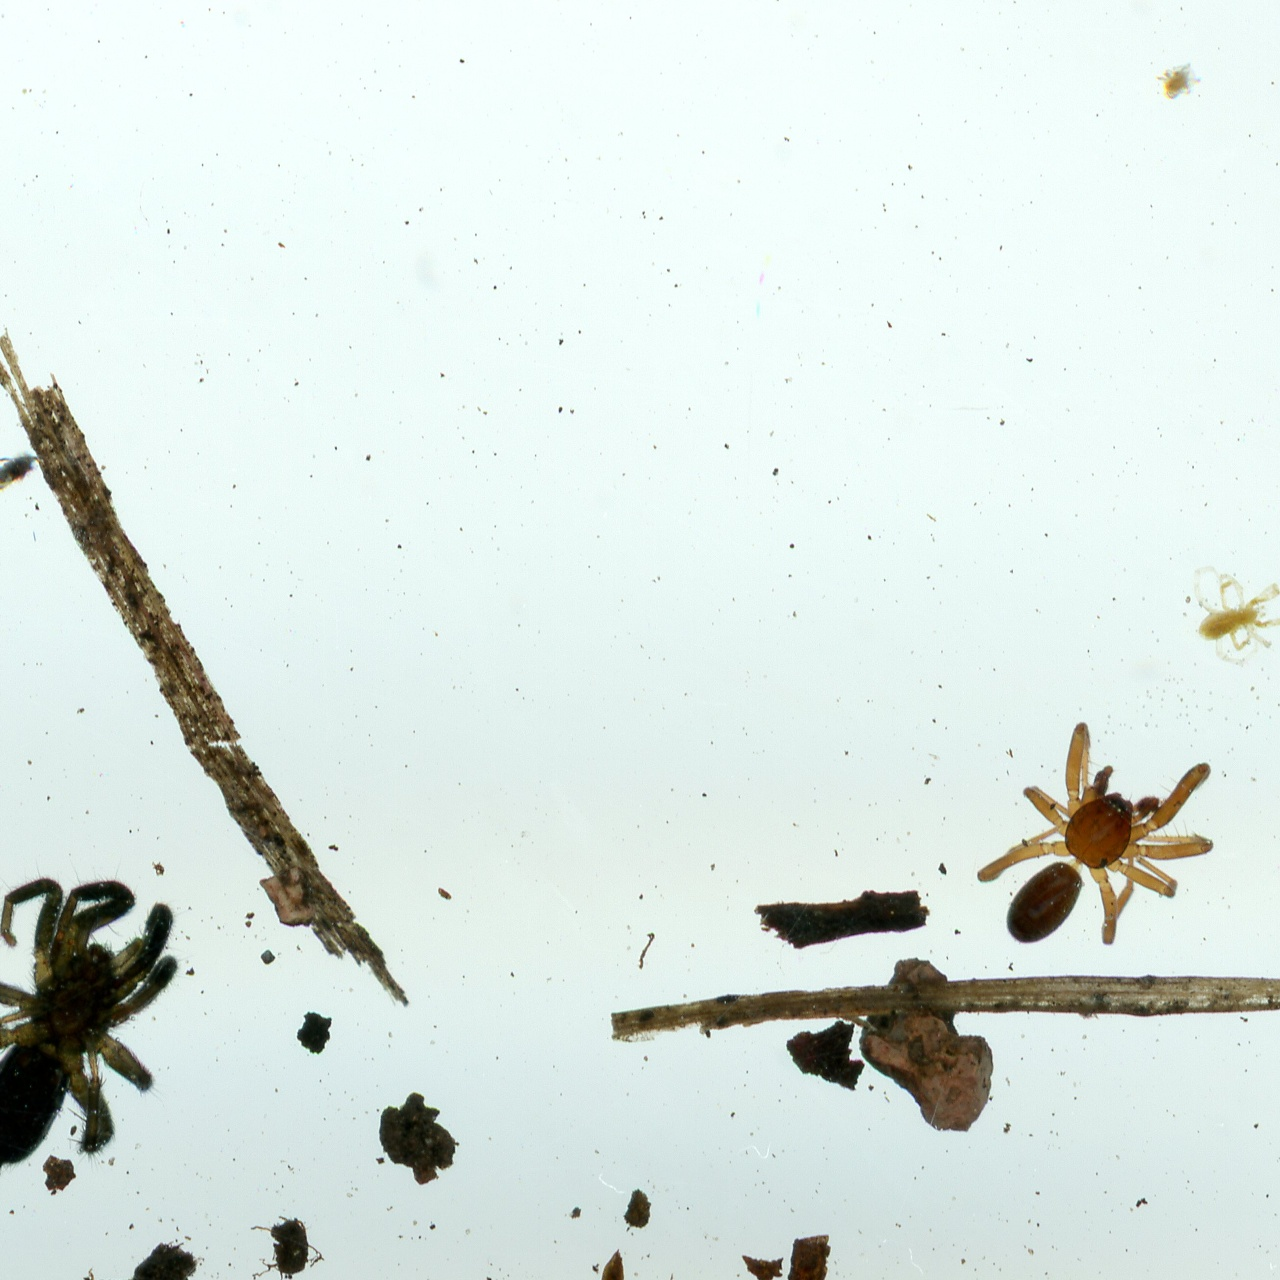arthropod: (0, 859, 191, 1186), (972, 717, 1224, 951), (1176, 561, 1280, 674), (1153, 56, 1205, 105), (0, 444, 40, 495)
